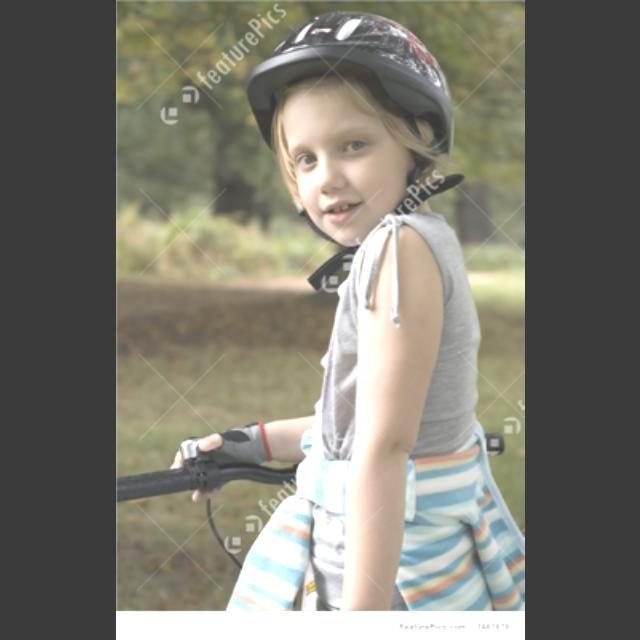With Helmet: (245, 9, 451, 252)
